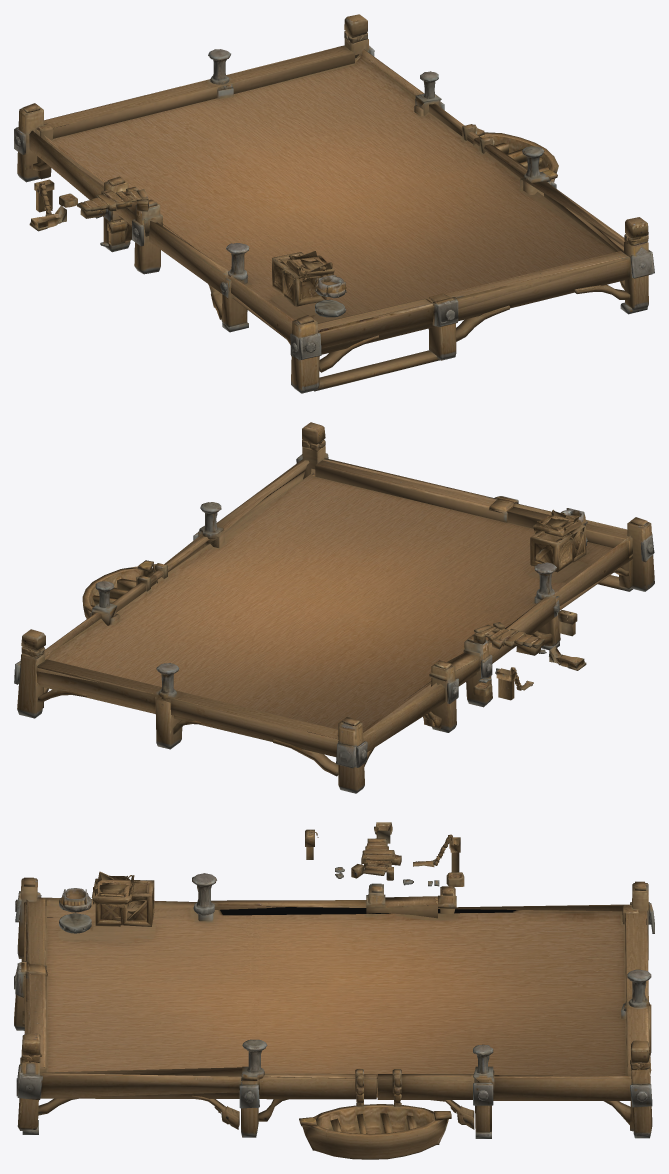
File: wooden_pier_sunset_v1.glb
The picture shows the model from 3 angles, top to bottom: view 1: azimuth 30°, elevation 25°; view 2: azimuth 150°, elevation 25°; view 3: azimuth 270°, elevation 25°; orthographic projection. The views are drawn at different scales.
Visible parts, largest first — view 1: wooden_pier_sunset_v1; view 2: wooden_pier_sunset_v1; view 3: wooden_pier_sunset_v1.
Boxes of the visible parts, left/top/right/bottom form: wooden_pier_sunset_v1: left=14, top=14, right=654, bottom=393; wooden_pier_sunset_v1: left=14, top=422, right=654, bottom=793; wooden_pier_sunset_v1: left=14, top=822, right=654, bottom=1159.
Bounding box in the file's own units: 0.9785 × 0.1875 × 0.998.
Materials: 1 (1 with a texture image).
